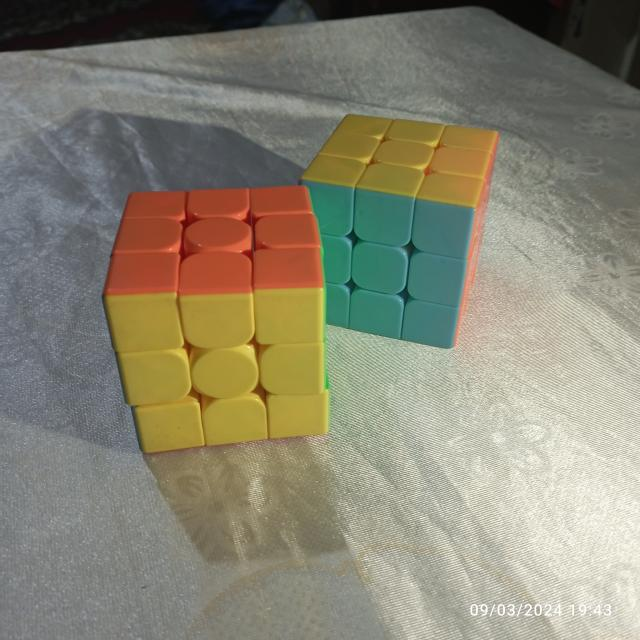Rub: (101, 182, 338, 459), (295, 107, 506, 354)
